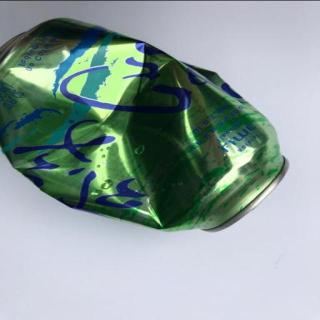Anorganik: (0, 16, 296, 238)
